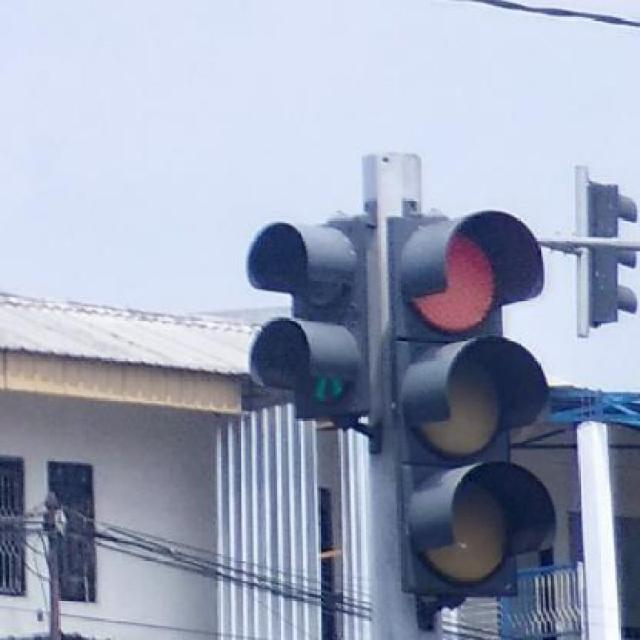red light: (385, 210, 557, 598)
